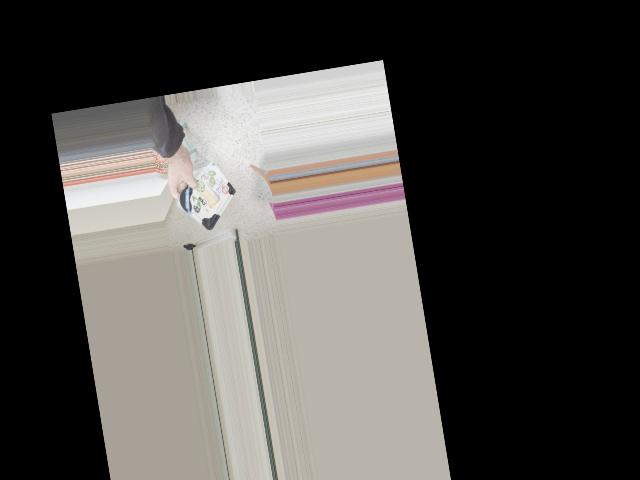cheese: (159, 168, 243, 227)
